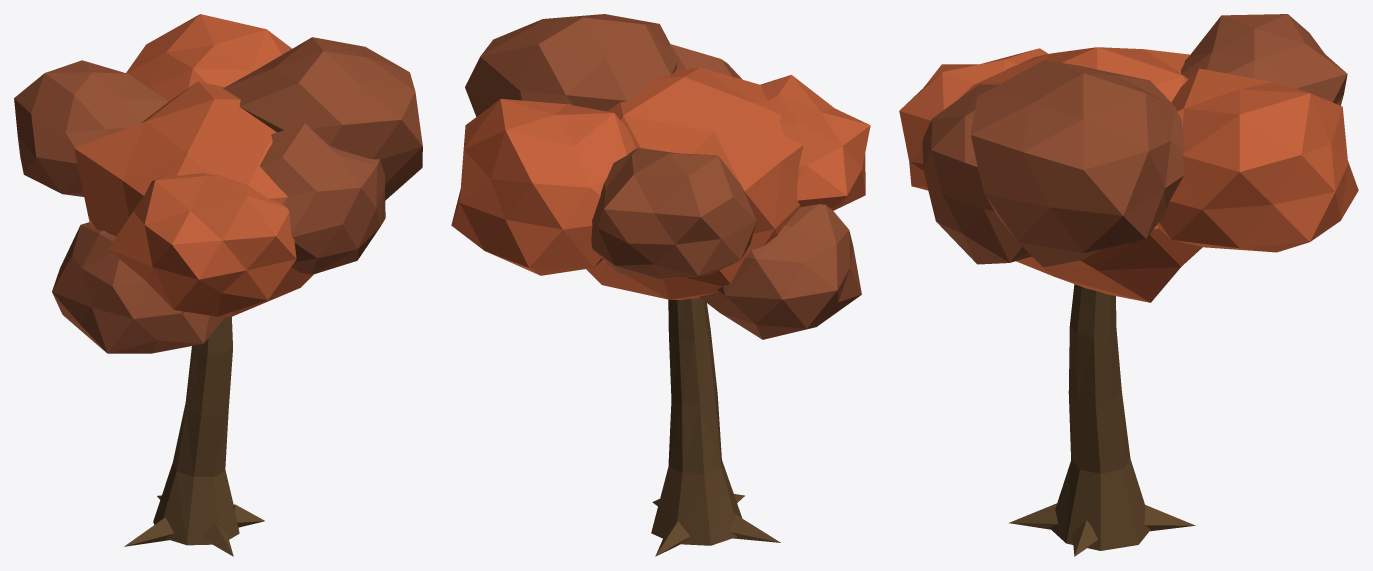
File: HS_LP_Tree_RedOak_01.fbx
3 renders of one model, left to right at view 1: azimuth 30°, elevation 25°; view 2: azimuth 150°, elevation 25°; view 3: azimuth 270°, elevation 25°, orthographic. The views are drawn at different scales.
Visible parts, largest first — view 1: HS_LP_Tree_RedOak_01; view 2: HS_LP_Tree_RedOak_01; view 3: HS_LP_Tree_RedOak_01.
Part boxes in pixels (bbox=[...]): HS_LP_Tree_RedOak_01: bbox=[14, 14, 422, 556]; HS_LP_Tree_RedOak_01: bbox=[451, 14, 870, 556]; HS_LP_Tree_RedOak_01: bbox=[899, 14, 1358, 556].
Size of the model in its own units: 431 by 533 by 423.
